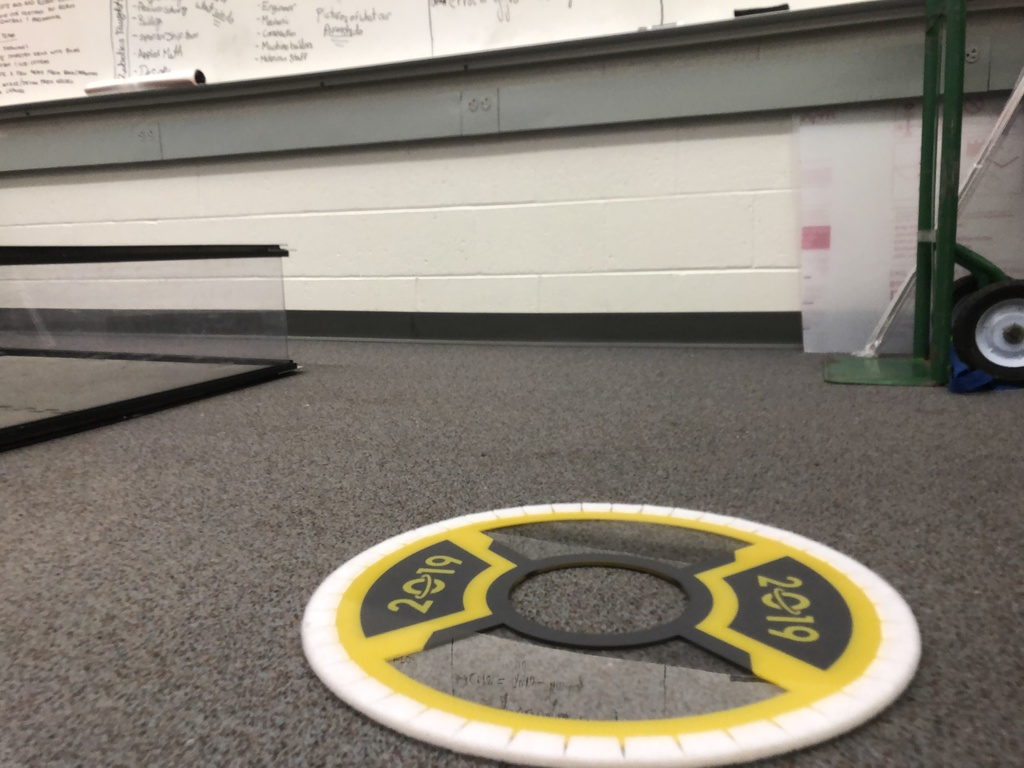hatch_panel: (289, 489, 937, 768)
